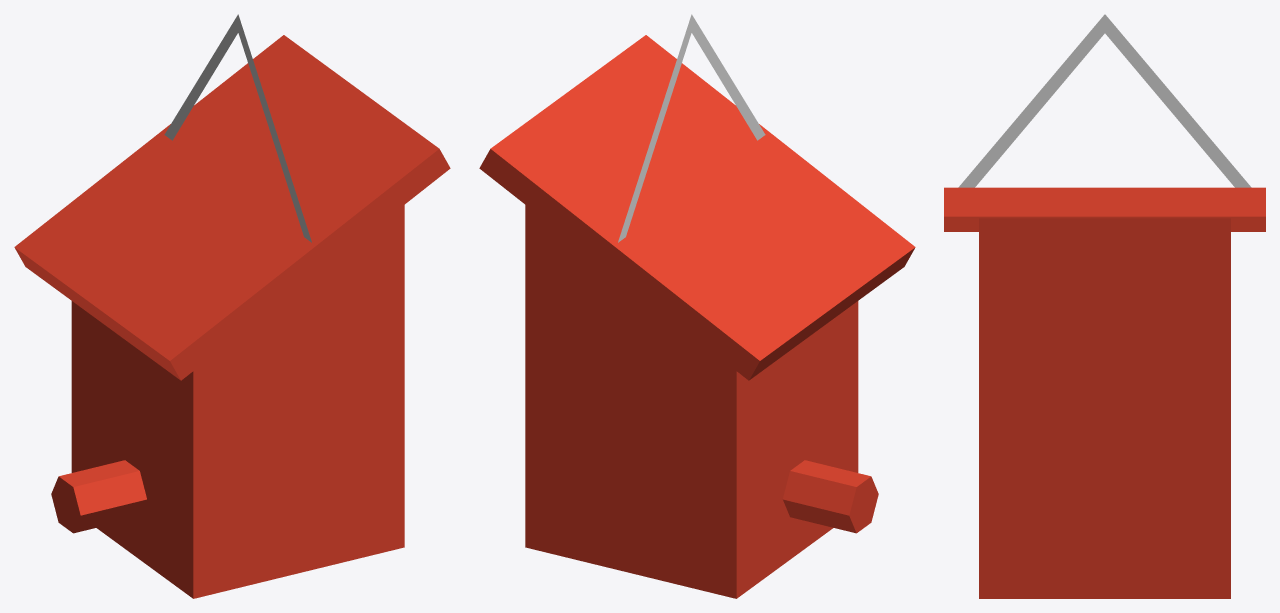
Rendered from birdhouse.fbx.
The picture shows the model from 3 angles, left to right: view 1: azimuth 30°, elevation 25°; view 2: azimuth 150°, elevation 25°; view 3: azimuth 270°, elevation 25°; orthographic projection. The views are drawn at different scales.
Visible parts, largest first — view 1: Birdhouse; view 2: Birdhouse; view 3: Birdhouse.
Boxes of the visible parts, box(x1,y1,x2,y2) form: Birdhouse: box(14, 14, 450, 598); Birdhouse: box(479, 14, 915, 598); Birdhouse: box(944, 14, 1265, 598).
Size of the model in its own units: 18.08 by 28.97 by 15.88.
